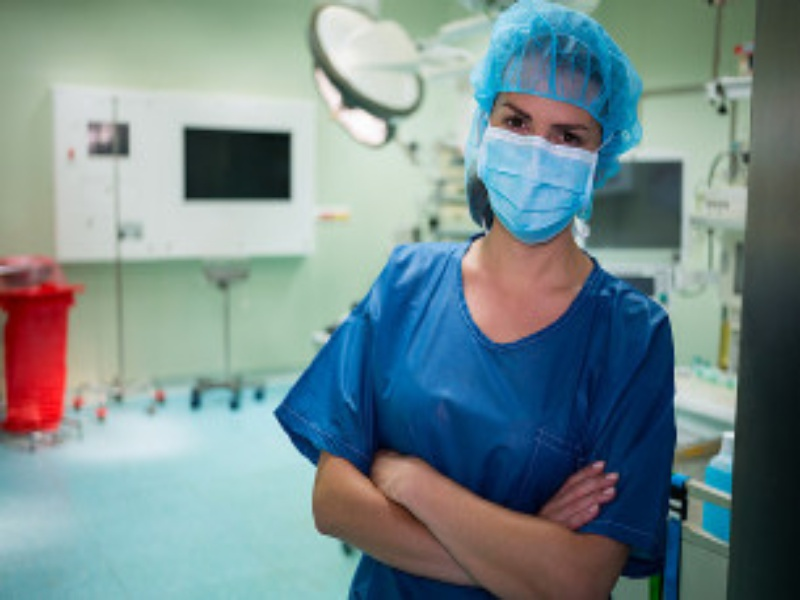mask: (455, 14, 631, 251)
